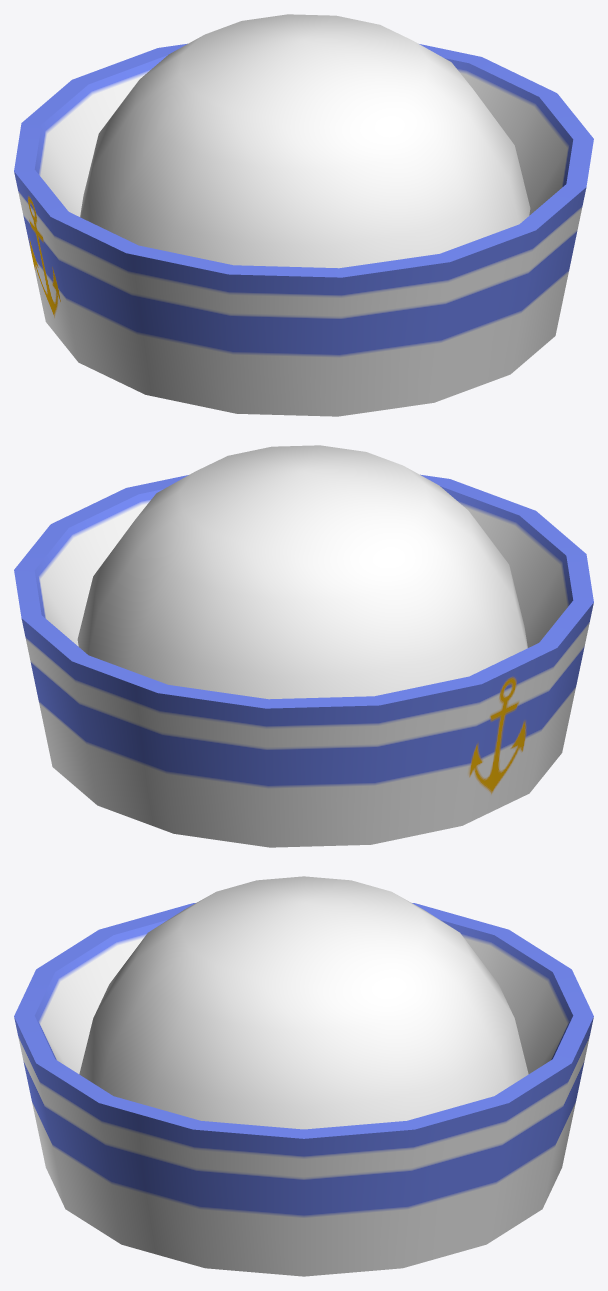
Rendered from hat_03.fbx.
3 views of the same model, one above another, from view 1: azimuth 30°, elevation 25°; view 2: azimuth 150°, elevation 25°; view 3: azimuth 270°, elevation 25° (orthographic).
Parts seen in each view (by area): view 1: Circle.001; view 2: Circle.001; view 3: Circle.001.
Boxes of the visible parts, x1=… form: Circle.001: x1=14, y1=14, x2=593, y2=416; Circle.001: x1=14, y1=445, x2=593, y2=847; Circle.001: x1=14, y1=876, x2=593, y2=1276.
Bounding box in the file's own units: 113 × 56.93 × 113.
